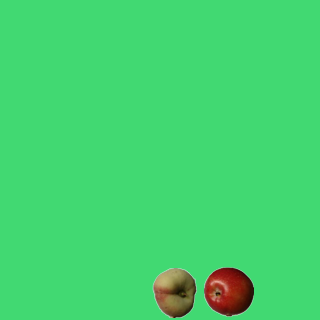Apple Braeburn: (203, 266, 253, 316)
Peach Flat: (149, 267, 199, 317)
